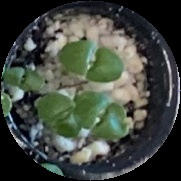Basil: (60, 40, 123, 80), (74, 92, 126, 138), (36, 91, 79, 135), (4, 60, 45, 94)
